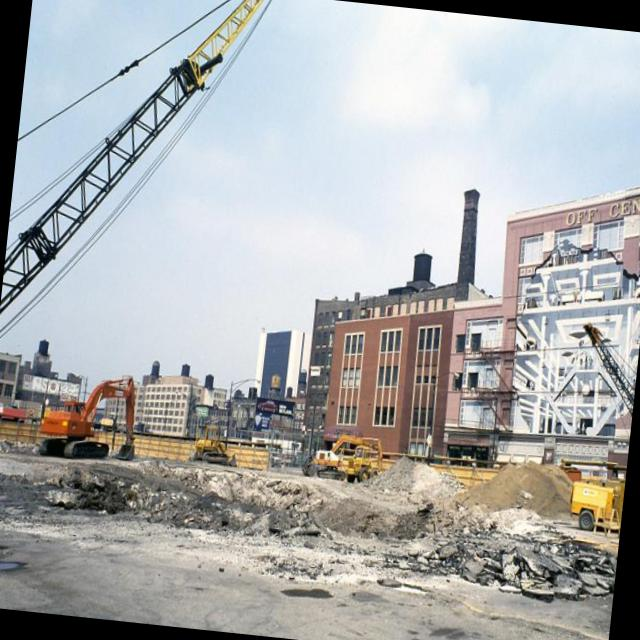Excavadora: (36, 370, 143, 464), (302, 430, 386, 484)
pala cargadora: (189, 421, 241, 466), (344, 442, 380, 484)
